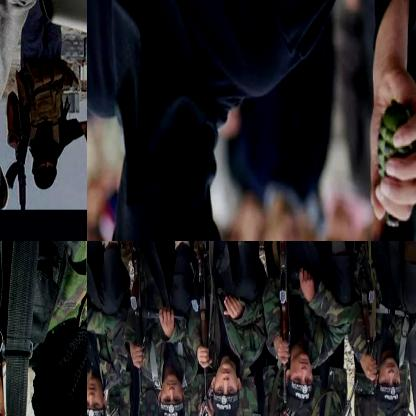rifle: (346, 241, 387, 390), (126, 241, 151, 408), (190, 241, 212, 415), (276, 241, 298, 408), (2, 102, 31, 212), (151, 373, 219, 415), (290, 378, 361, 415)
